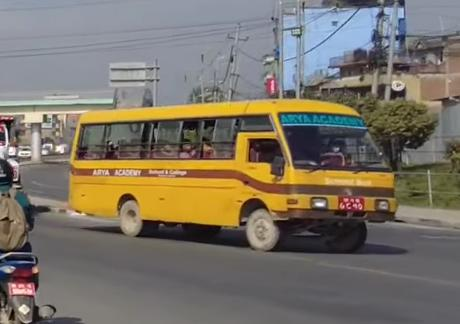school_bus: (65, 96, 405, 250)
